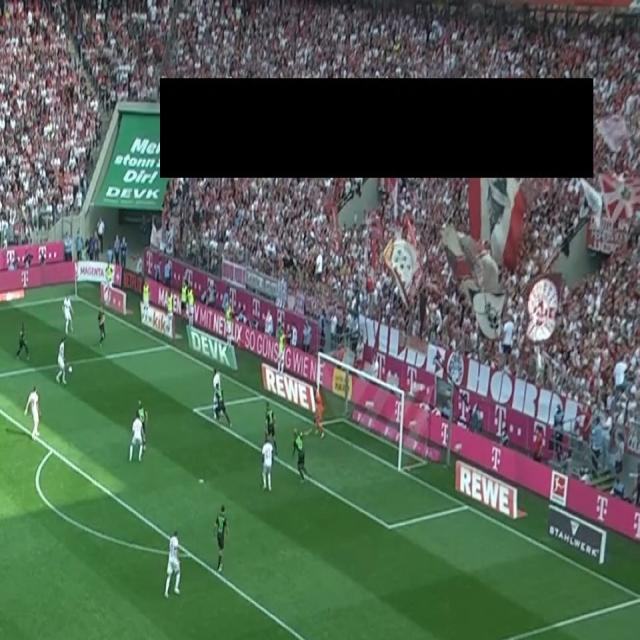ball: (68, 364, 73, 374)
